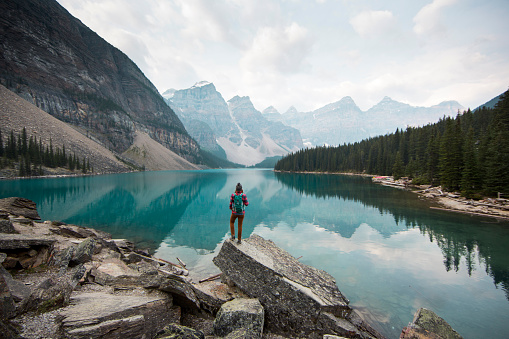em pe: (225, 187, 246, 241)
